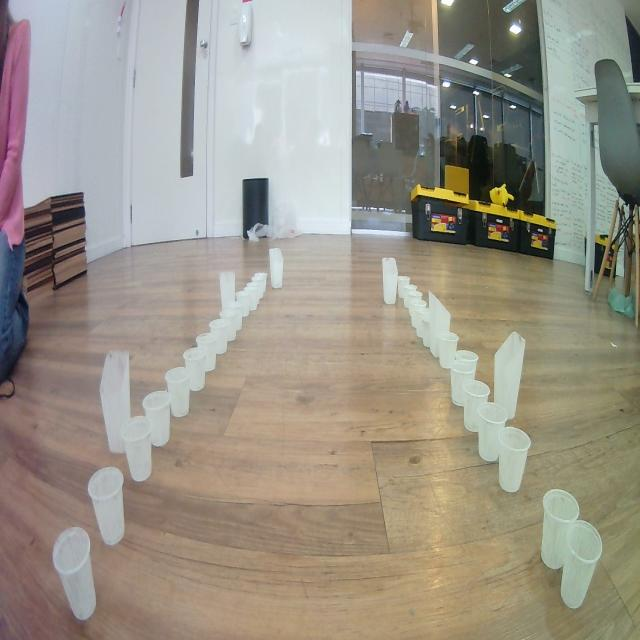erva_daninha: (99, 349, 132, 455), (494, 331, 526, 422), (428, 291, 452, 358), (382, 256, 399, 306), (219, 269, 236, 311), (269, 247, 284, 289)
planta: (52, 526, 98, 621), (561, 519, 603, 609), (541, 489, 580, 570), (88, 466, 126, 546), (498, 426, 532, 494), (121, 414, 152, 484), (477, 402, 507, 463), (142, 390, 172, 447), (449, 350, 478, 407), (462, 379, 491, 433), (165, 366, 191, 418), (184, 347, 206, 392), (195, 332, 217, 373), (437, 332, 460, 369), (209, 318, 228, 355), (218, 309, 237, 342), (414, 306, 430, 339), (228, 301, 244, 331), (408, 299, 424, 329), (404, 290, 422, 316), (421, 314, 432, 348), (243, 286, 258, 310), (402, 284, 417, 308), (236, 292, 250, 317), (248, 281, 262, 303), (397, 276, 411, 298), (252, 277, 266, 298), (255, 272, 268, 292)
